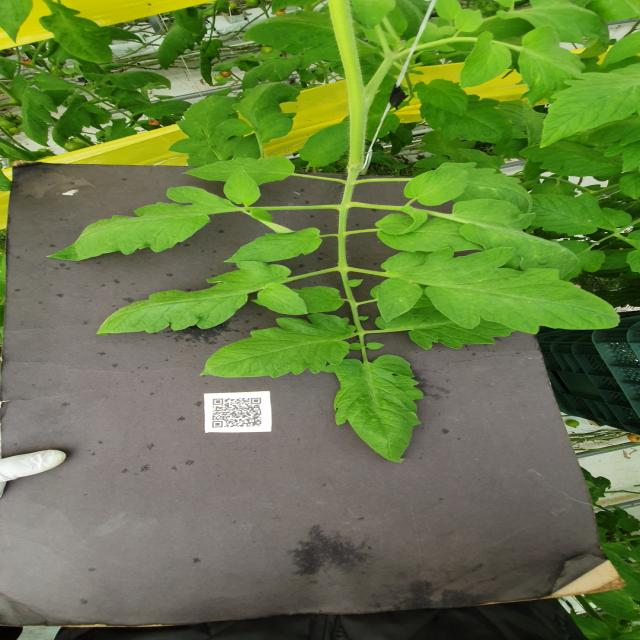Healthy Leaf: (375, 246, 619, 334), (96, 261, 306, 335), (45, 185, 235, 262), (317, 353, 425, 462), (198, 311, 357, 379), (536, 70, 640, 150), (213, 80, 302, 144), (166, 93, 253, 158), (519, 25, 587, 107), (38, 1, 115, 64), (530, 191, 632, 238), (181, 154, 299, 186), (224, 228, 322, 262), (458, 30, 512, 88), (50, 97, 106, 148), (401, 167, 469, 205), (409, 78, 471, 117), (296, 121, 349, 166), (241, 56, 301, 90), (222, 165, 262, 207)
